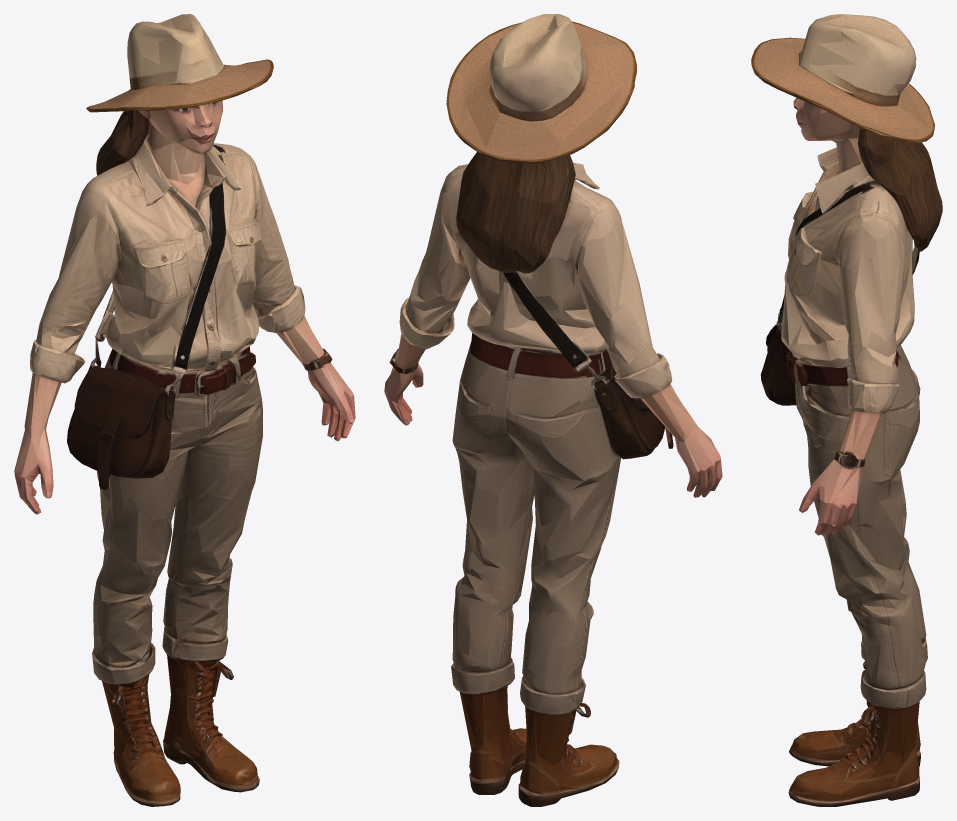
3 renders of one model, left to right at view 1: azimuth 30°, elevation 25°; view 2: azimuth 150°, elevation 25°; view 3: azimuth 270°, elevation 25°, orthographic.
Bounding box in the file's own units: 0.8719 × 1.9 × 0.4348.
Materials: 1 (1 with a texture image).
